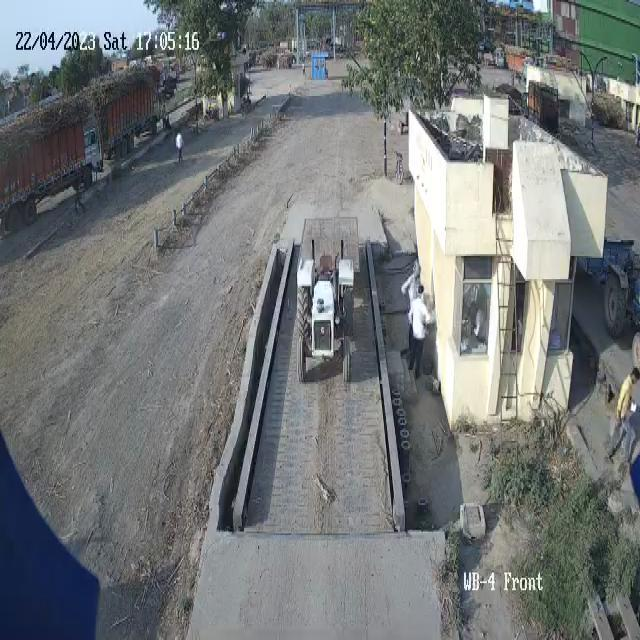Tratores - v5 YOLO V8L 2024-11-13: (294, 223, 356, 396)
